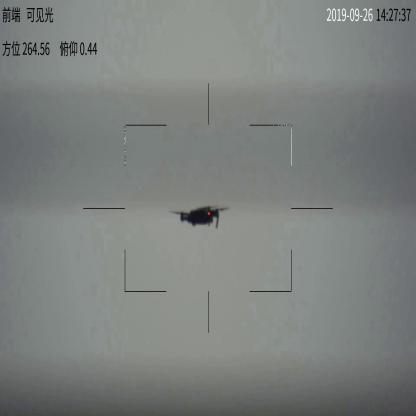uav: (175, 204, 225, 230)
